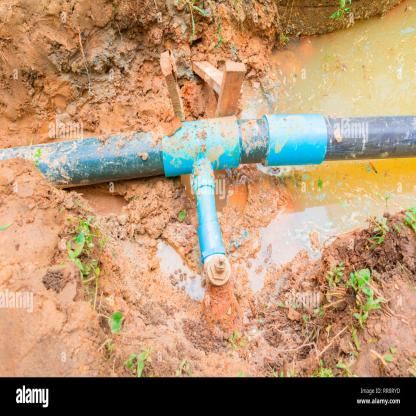PVC: (2, 113, 413, 260)
